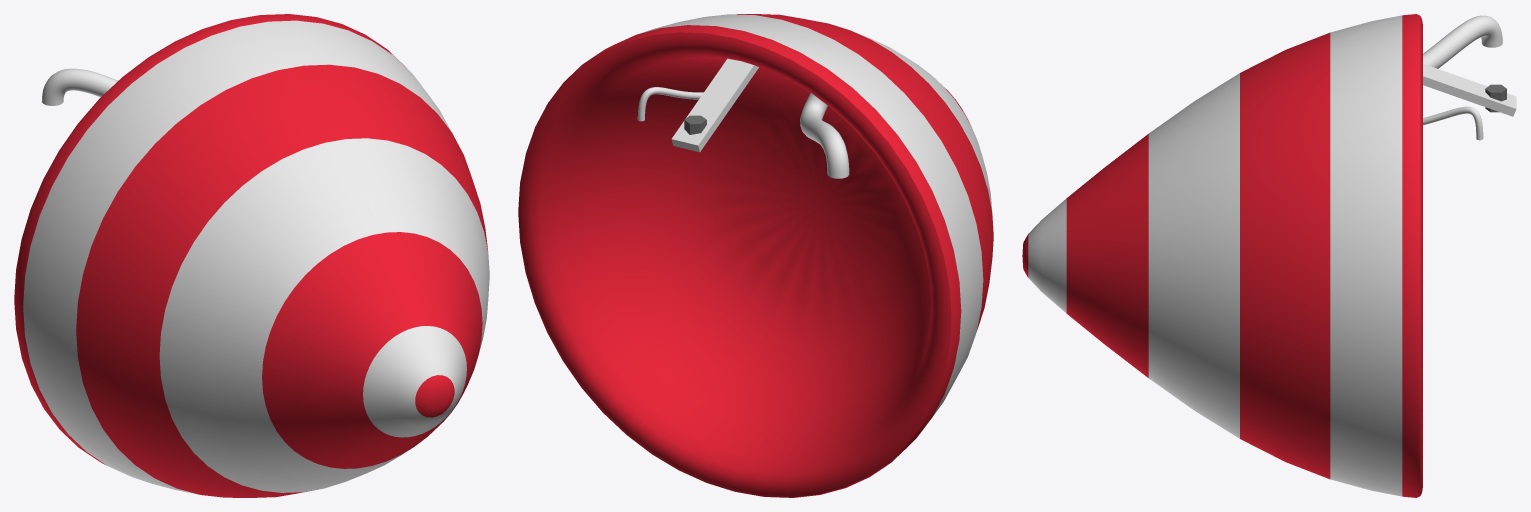
The model's file is Stozek_1.fbx.
The picture shows the model from 3 angles, left to right: view 1: azimuth 30°, elevation 25°; view 2: azimuth 150°, elevation 25°; view 3: azimuth 270°, elevation 25°; orthographic projection. The views are drawn at different scales.
Visible parts, largest first — view 1: Cylinder.002, cable.003; view 2: Cylinder.002, Cube.005, cable.003, cable.004; view 3: Cylinder.002, cable.003, Cube.005, cable.004.
Part boxes in pixels (x1=…): Cylinder.002: x1=14, y1=14, x2=489, y2=497; cable.003: x1=41, y1=68, x2=117, y2=105; Cylinder.002: x1=518, y1=14, x2=993, y2=497; Cube.005: x1=671, y1=58, x2=758, y2=152; cable.003: x1=800, y1=93, x2=849, y2=178; cable.004: x1=637, y1=87, x2=703, y2=121; Cylinder.002: x1=1022, y1=14, x2=1422, y2=497; cable.003: x1=1423, y1=15, x2=1502, y2=68; Cube.005: x1=1423, y1=63, x2=1516, y2=116; cable.004: x1=1423, y1=106, x2=1483, y2=140.
Size of the model in its own units: 115 by 115 by 117.
